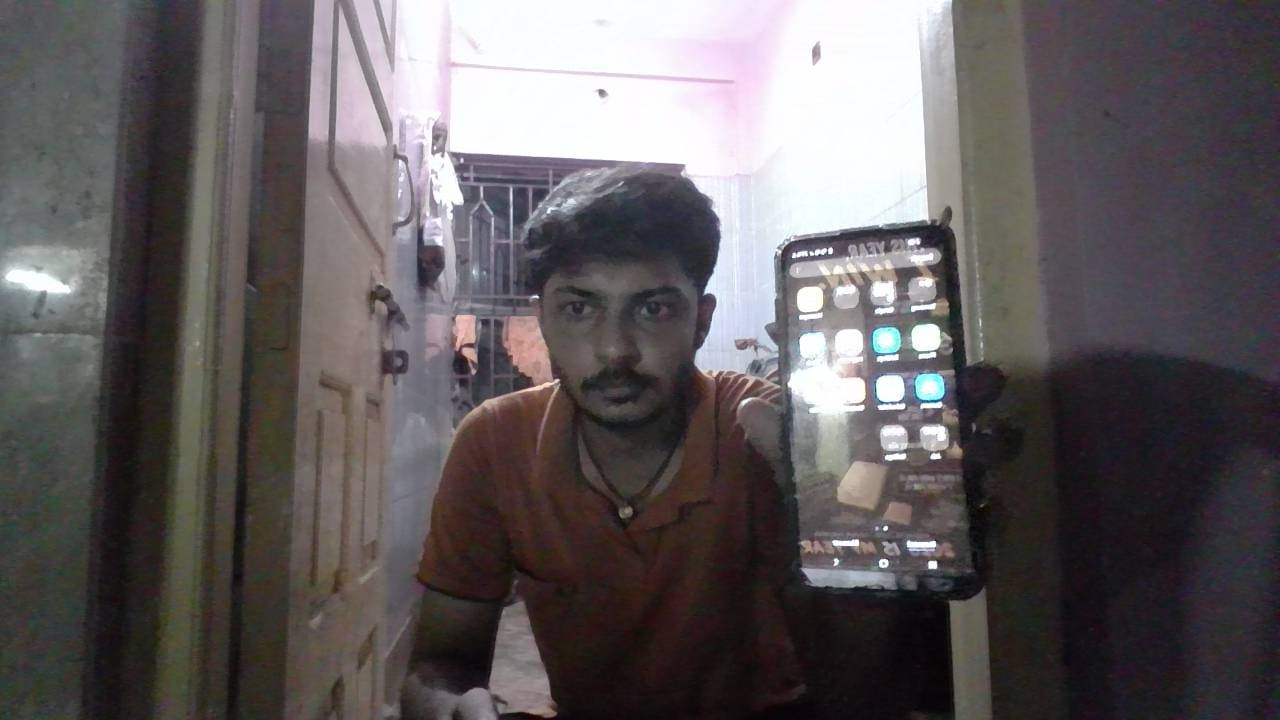red_box: (449, 394, 608, 559), (631, 444, 711, 531), (420, 497, 464, 576)
